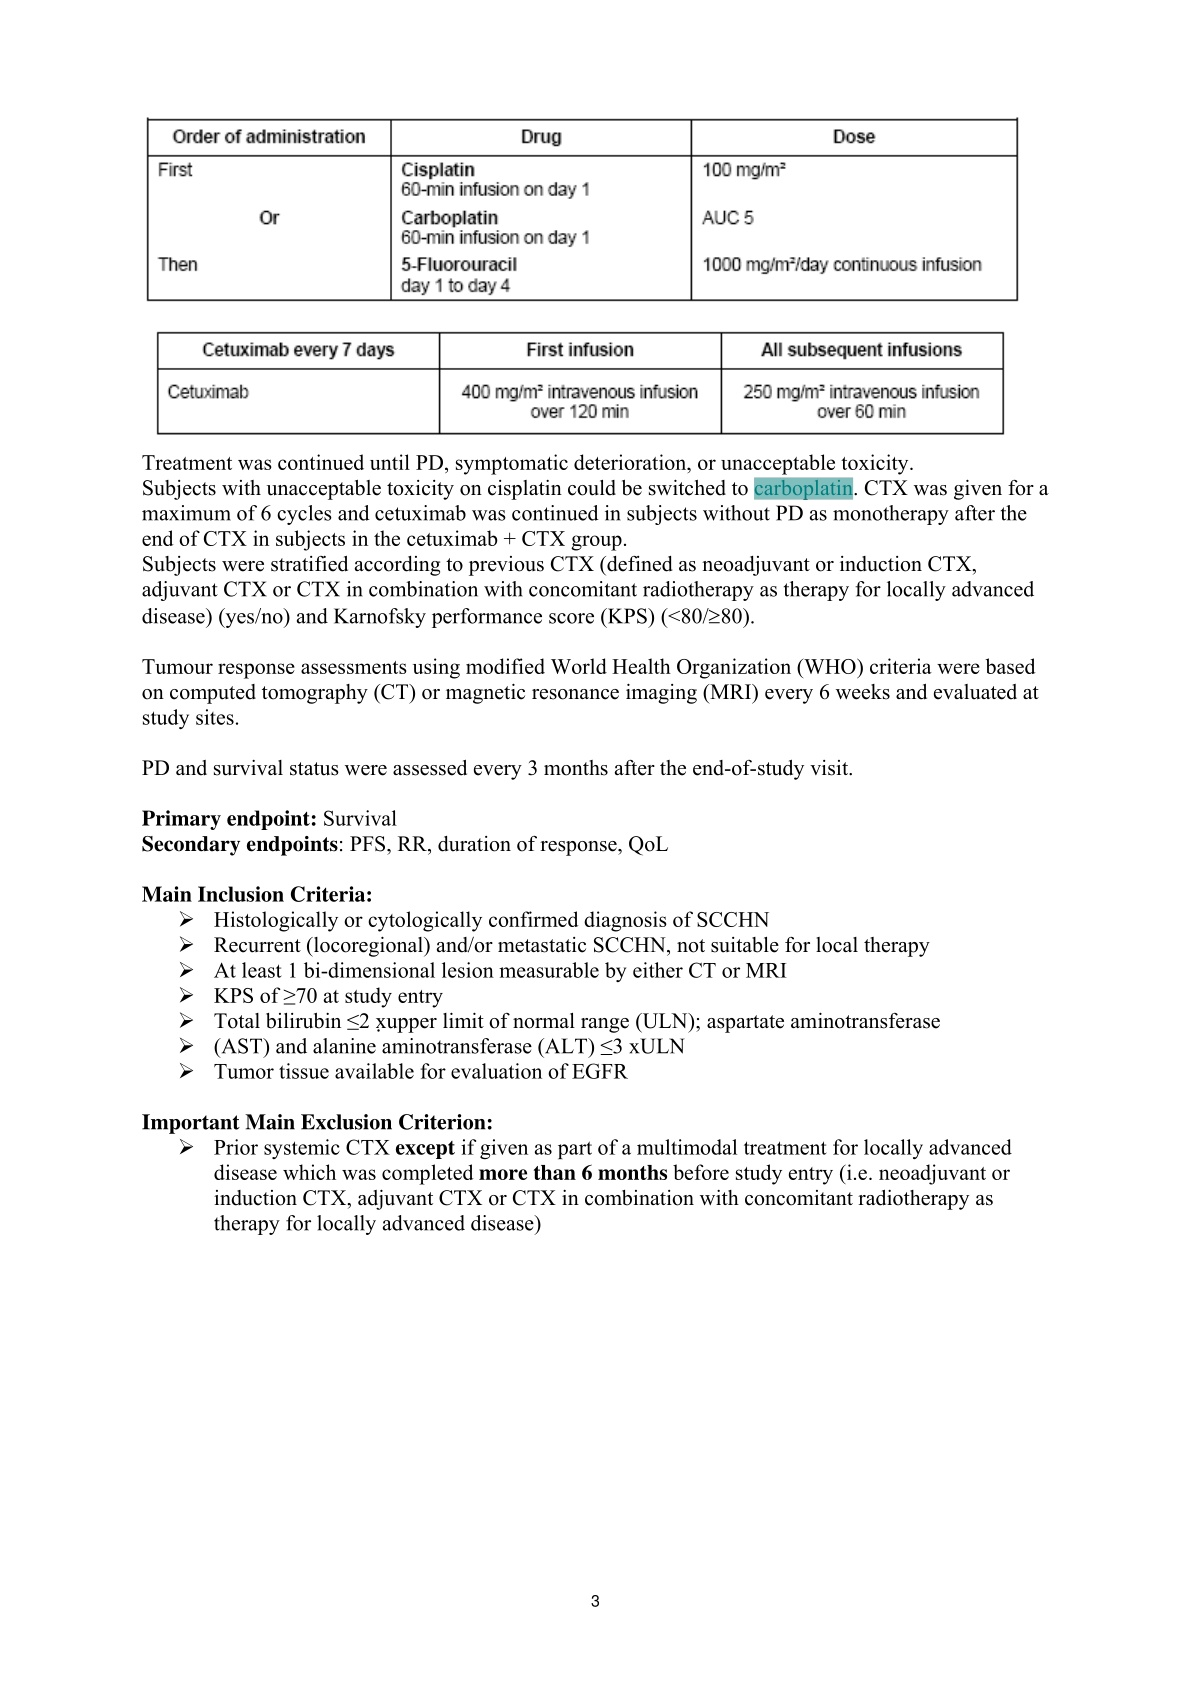full_lined: (143, 106, 1026, 312), (151, 324, 1014, 438)
